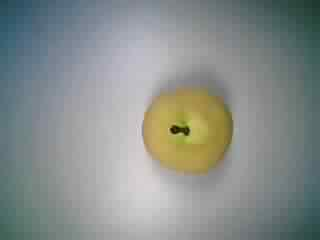pear: (129, 79, 238, 181)
